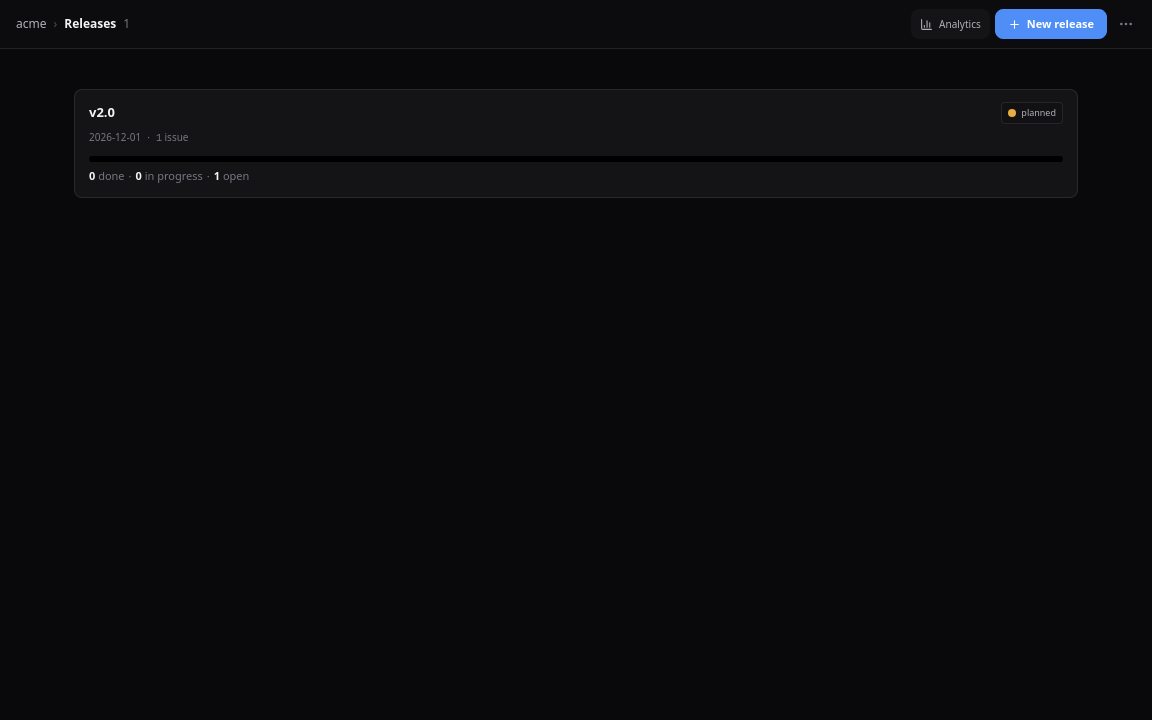
Test: Release notes dialog › Copy puts the exact Markdown on the clipboard
The image size is (1152, 720).
Step 1. Click the button with aria-label "Open release v2.0" → (1032, 113), box [74,89,1078,198]
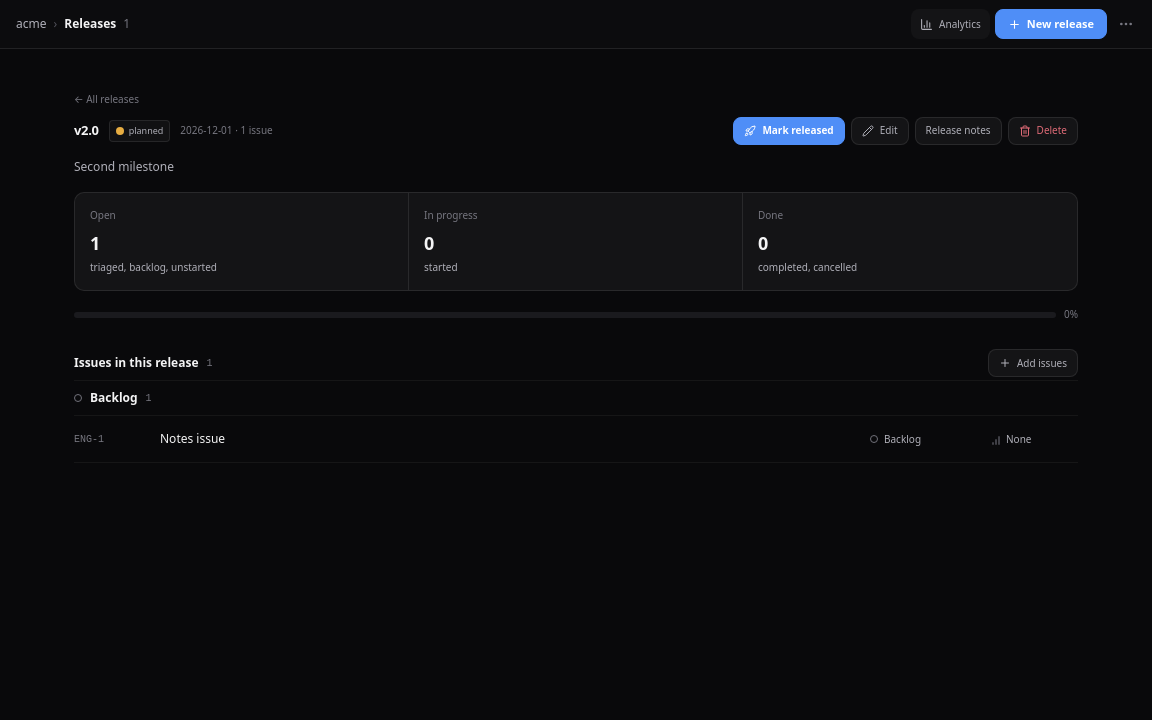
Step 2. Click the button "Release notes" → (958, 130), box [915,116,1002,144]
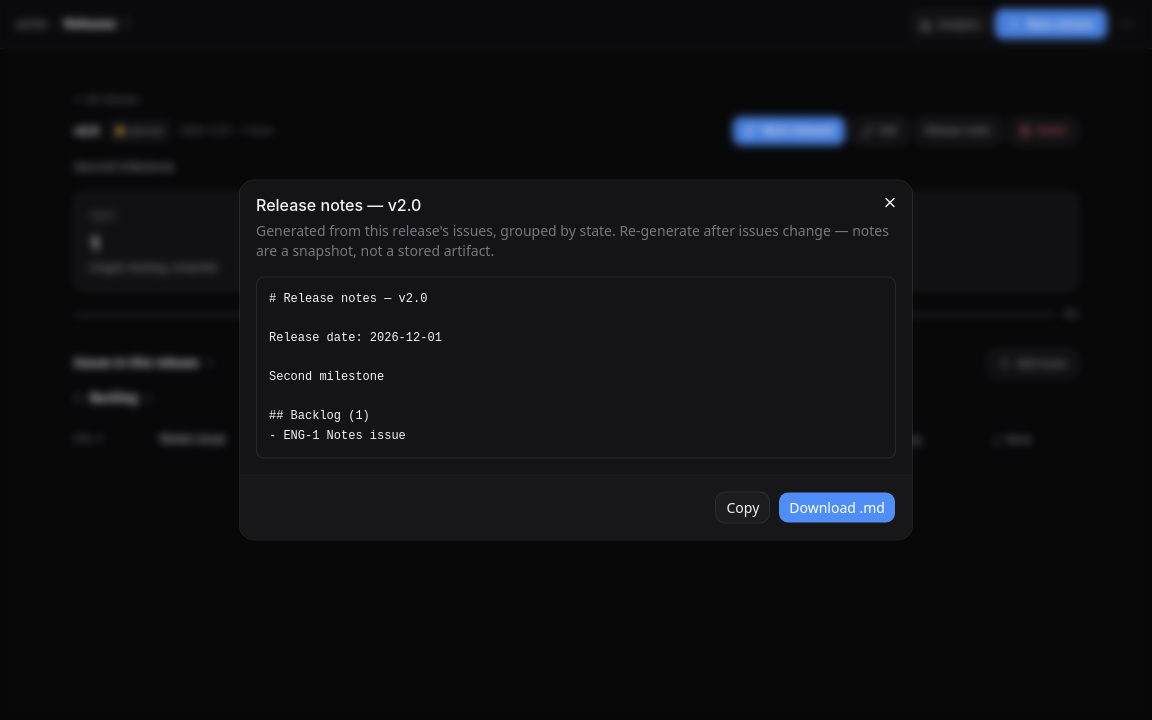
Step 3. Click the button "Copy" → (743, 508), box [716,492,770,524]
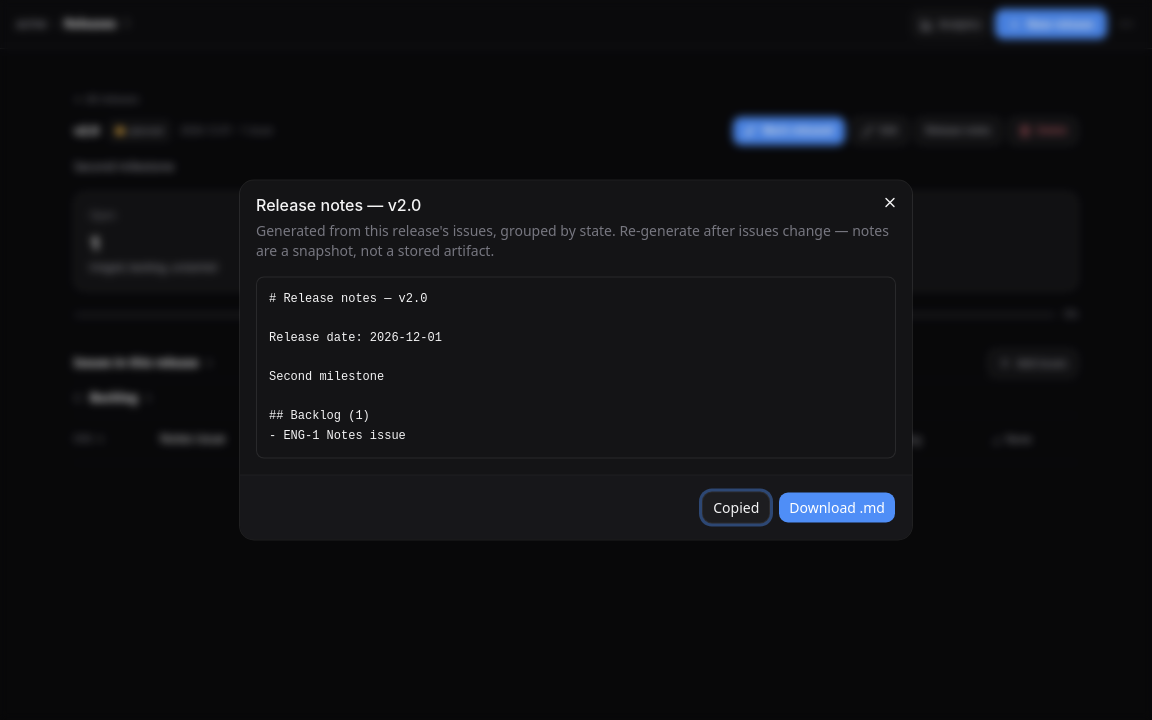
Result: the button "Copied" is shown at [702,492,770,524]
